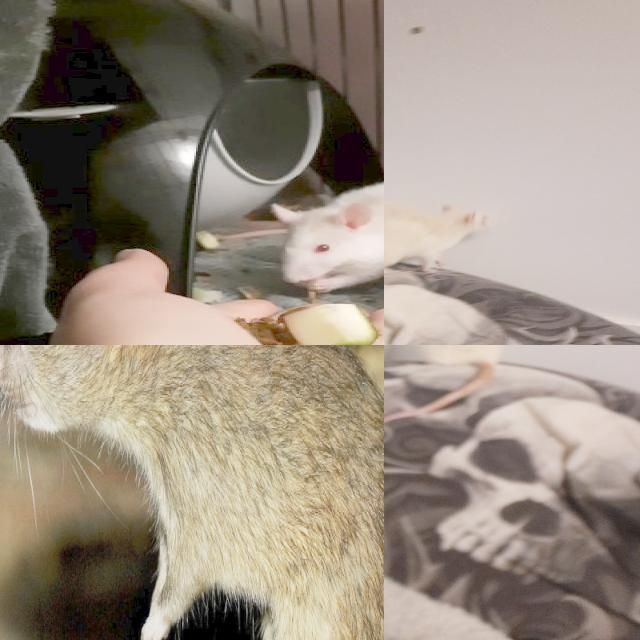rat: (0, 345, 384, 640), (269, 181, 384, 291), (384, 201, 494, 277)
